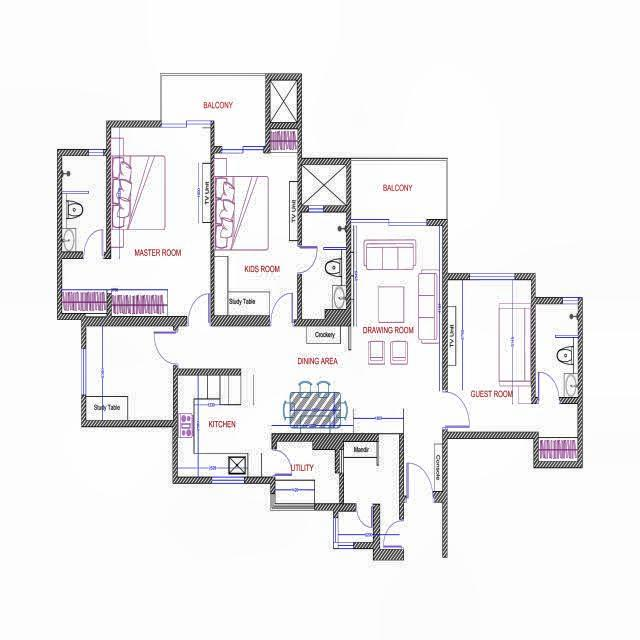room: (351, 224, 443, 489), (112, 129, 209, 315), (215, 152, 296, 316), (447, 279, 532, 433), (177, 374, 269, 476), (271, 325, 350, 431), (86, 324, 172, 420), (161, 76, 266, 146), (353, 161, 446, 218), (302, 212, 346, 318), (536, 304, 578, 396), (276, 441, 339, 502), (64, 158, 105, 247), (344, 442, 399, 503), (538, 405, 578, 462), (64, 262, 107, 311), (303, 164, 345, 203), (271, 83, 299, 123), (339, 512, 372, 542), (281, 277, 281, 278)
